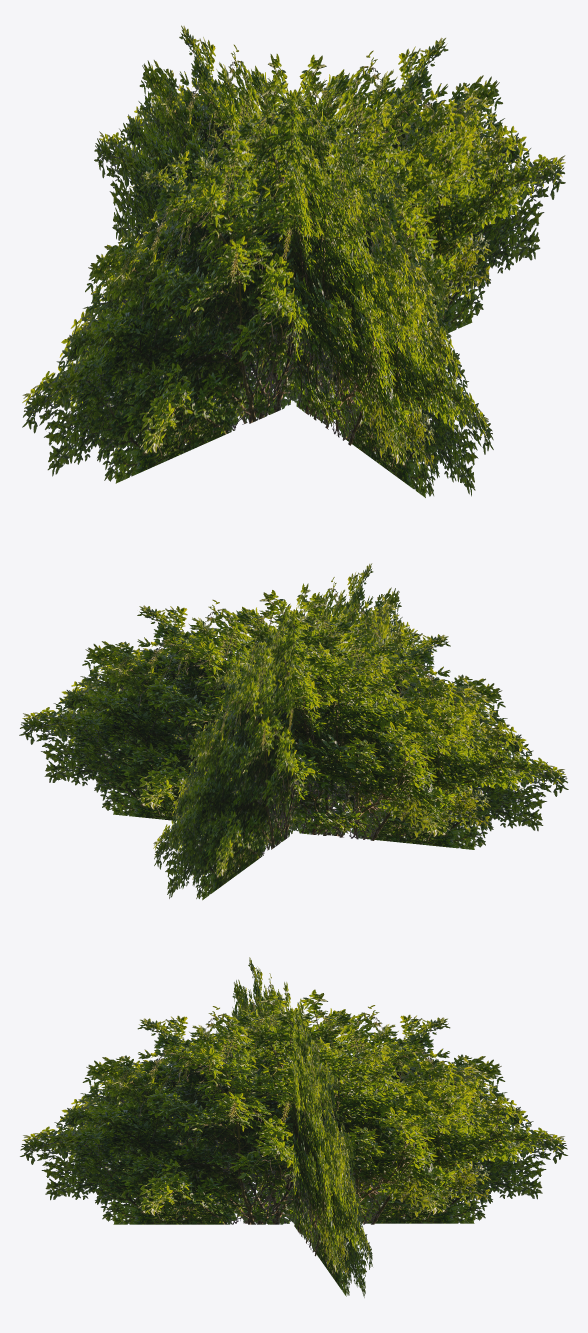
Rendered from SM_Bush_Leaves_01.fbx.
3 views of the same model, one above another, from view 1: azimuth 30°, elevation 25°; view 2: azimuth 150°, elevation 25°; view 3: azimuth 270°, elevation 25° (orthographic). The views are drawn at different scales.
Visible parts, largest first — view 1: SM_Bush_Leaves_01; view 2: SM_Bush_Leaves_01; view 3: SM_Bush_Leaves_01.
Part boxes in pixels (x1,y1,x2,y2): SM_Bush_Leaves_01: (22,25,565,497); SM_Bush_Leaves_01: (19,563,568,900); SM_Bush_Leaves_01: (20,957,567,1297).
Size of the model in its own units: 510 by 251 by 531.
